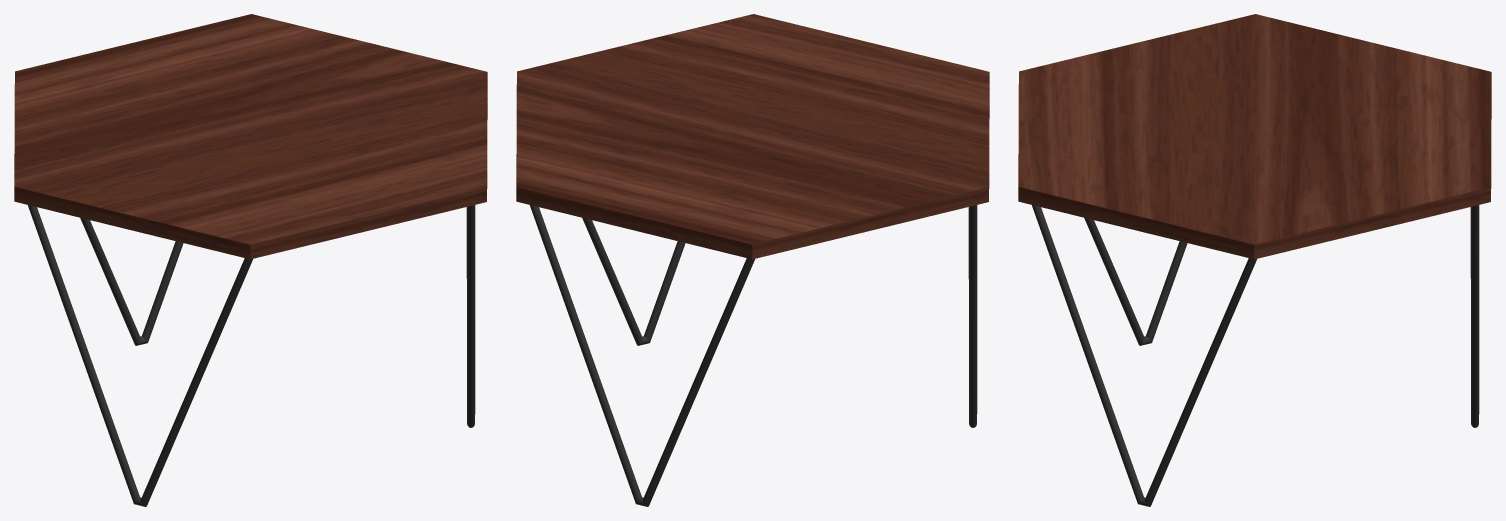
3 views of the same model, side by side, from view 1: azimuth 30°, elevation 25°; view 2: azimuth 150°, elevation 25°; view 3: azimuth 270°, elevation 25° (orthographic).
Visible parts, largest first — view 1: C-skp4C4C; view 2: C-skp4C4C; view 3: C-skp4C4C.
Part boxes in pixels (x1,y1,x2,y2): C-skp4C4C: (14, 14, 487, 506); C-skp4C4C: (516, 14, 989, 506); C-skp4C4C: (1018, 14, 1491, 506).
Bounding box in the file's own units: 0.68 × 0.4061 × 0.5896.
Materials: 2 (1 with a texture image).
